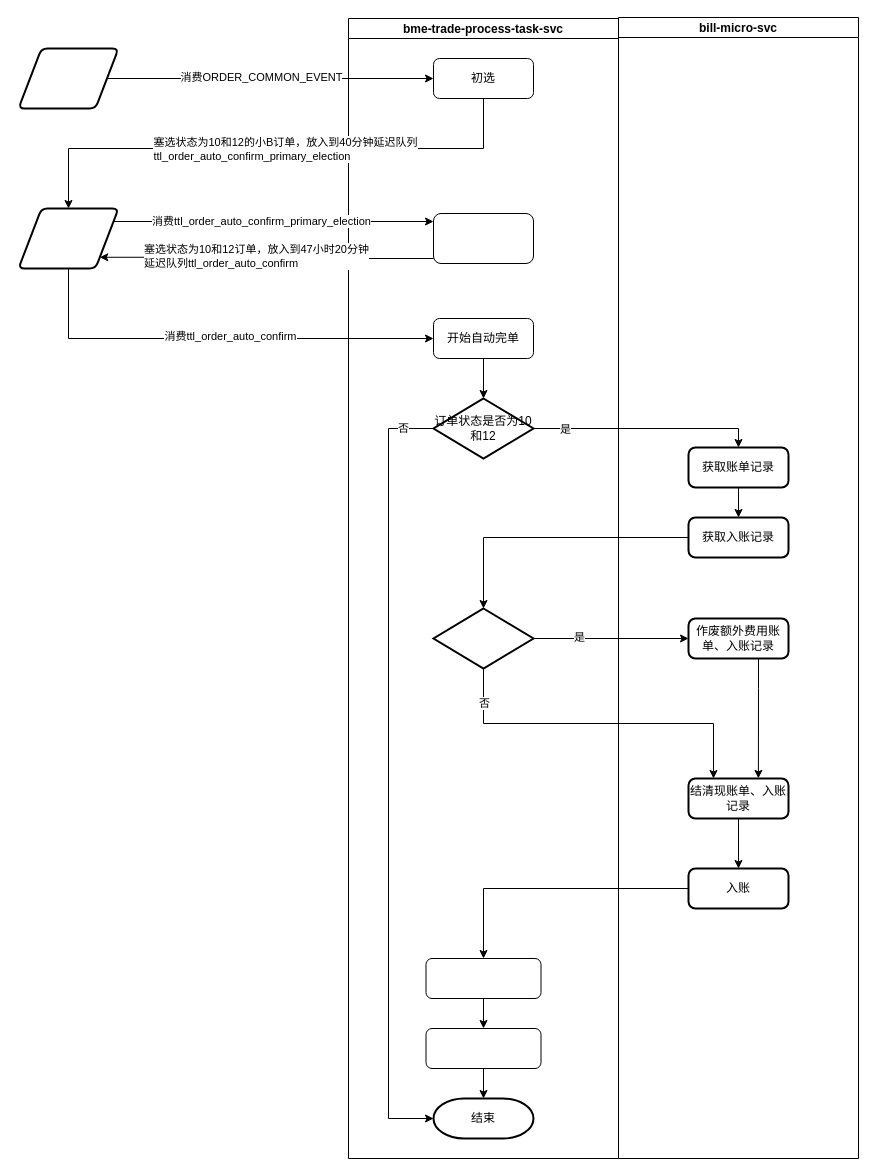
The diagram is 876 pixels wide and 1176 high, and some of its shapes have lost their labels. The box of each missing label's shape, as (x1, y1, x2, y2) in pixels:
kafka: (17, 47, 119, 109)
rabbit-mq: (17, 207, 119, 269)
再次塞选: (432, 212, 534, 264)
广播完单事件: (425, 1028, 541, 1068)
是否有未支付的额外费用账单、入账记录: (432, 607, 534, 669)
订单完单: (425, 958, 541, 998)
